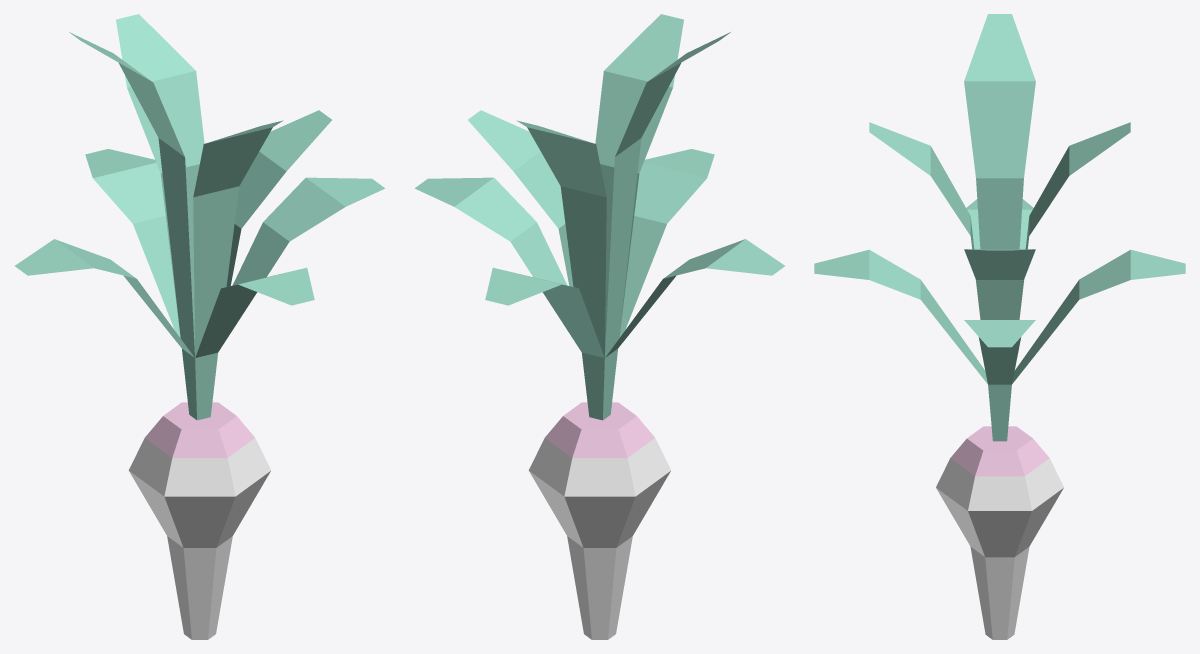
The model's file is radish-separated.fbx.
3 views of the same model, side by side, from view 1: azimuth 30°, elevation 25°; view 2: azimuth 150°, elevation 25°; view 3: azimuth 270°, elevation 25° (orthographic). The views are drawn at different scales.
Visible parts, largest first — view 1: radish.001, radish; view 2: radish.001, radish; view 3: radish.001, radish.
Boxes of the visible parts, <box> form: radish.001: <box>15,14,384,420</box>; radish: <box>128,402,271,639</box>; radish.001: <box>415,14,784,420</box>; radish: <box>528,402,671,639</box>; radish.001: <box>814,14,1185,441</box>; radish: <box>936,426,1063,639</box>.
Size of the model in its own units: 34.31 by 57.63 by 34.31.
